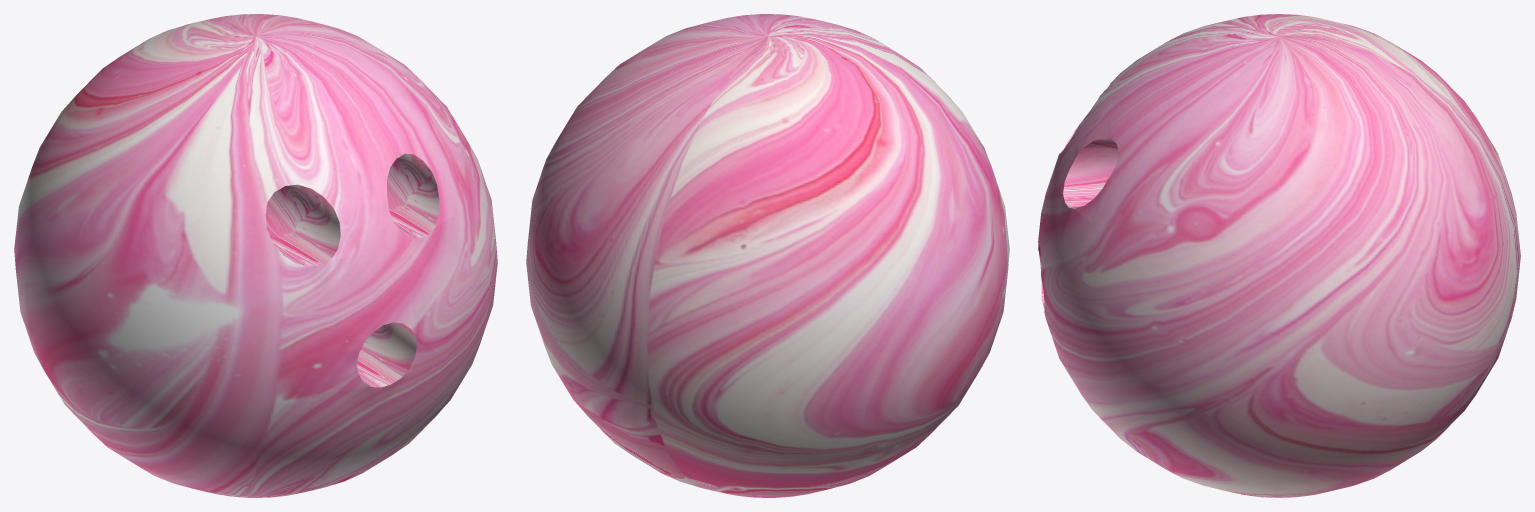
Rendered from BowlingBall.fbx.
3 renders of one model, left to right at view 1: azimuth 30°, elevation 25°; view 2: azimuth 150°, elevation 25°; view 3: azimuth 270°, elevation 25°, orthographic.
Parts seen in each view (by area): view 1: BowlingBall; view 2: BowlingBall; view 3: BowlingBall.
Part boxes in pixels (x1,y1,x2,y2): BowlingBall: (14, 14, 497, 497); BowlingBall: (526, 14, 1009, 497); BowlingBall: (1038, 14, 1520, 497).
Size of the model in its own units: 1.52 by 1.52 by 1.52.
1 material, 1 textured.
